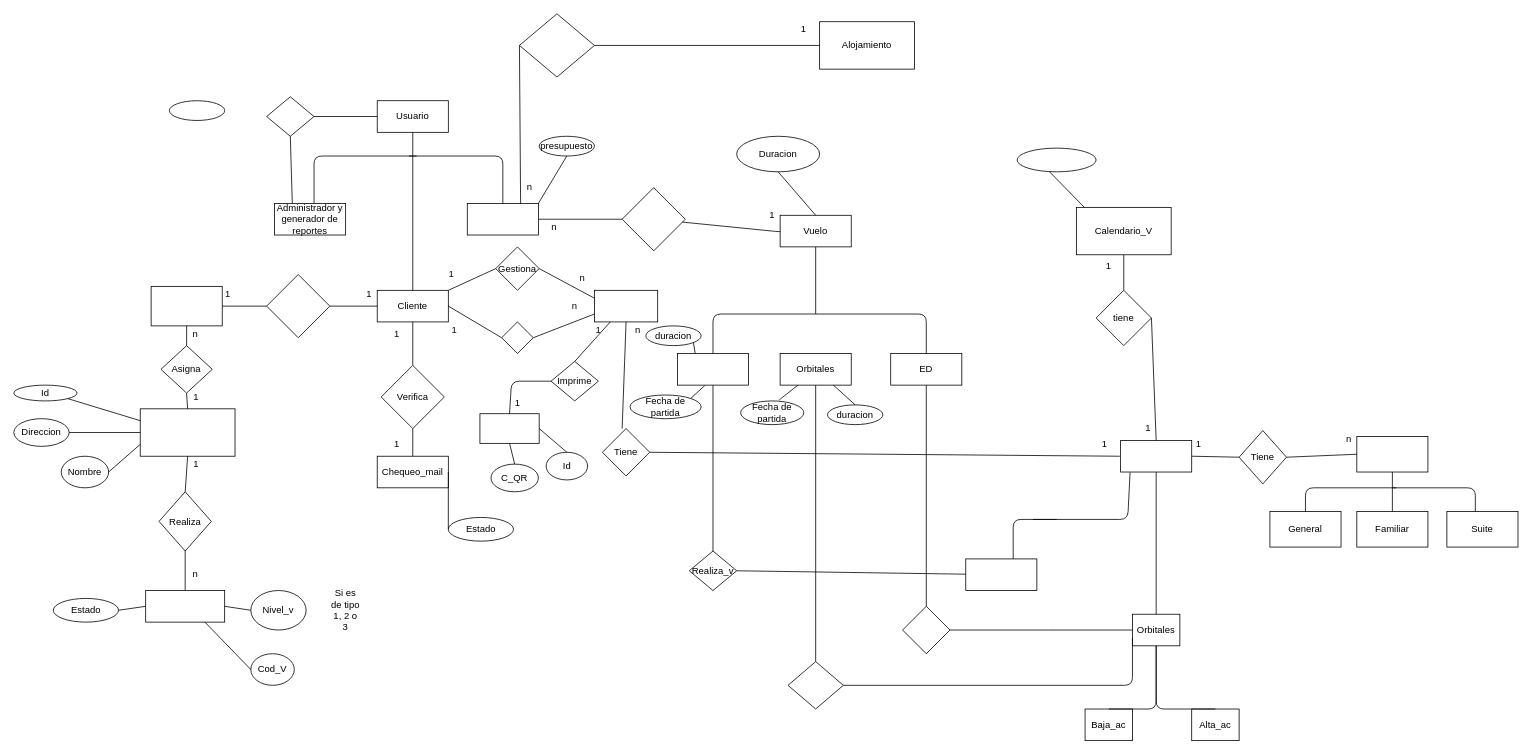
The diagram is 1532 pixels wide and 754 high, and some of its shapes have lost their labels. Each missing label, with the centre of its shape:
Agrupa: the point at 290,116
Analisis clinico: the point at 185,606
Busca_A: the point at 556,45
Busca_V: the point at 653,219
Cabina: the point at 1392,454
Centro medico: the point at 187,432
equipo: the point at 1156,456
Facturacion: the point at 197,110
Fecha: the point at 1056,159
Interesado: the point at 502,219
Paga: the point at 517,337
Realiza_vED: the point at 926,630
Realiza_Vor: the point at 815,685
Reserva: the point at 626,306
Solicita: the point at 298,306
Suborbital: the point at 1001,574
Suborbitales: the point at 713,369
ticket: the point at 509,428
Turno: the point at 186,306
